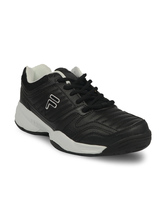shoes: (14, 63, 153, 160)
